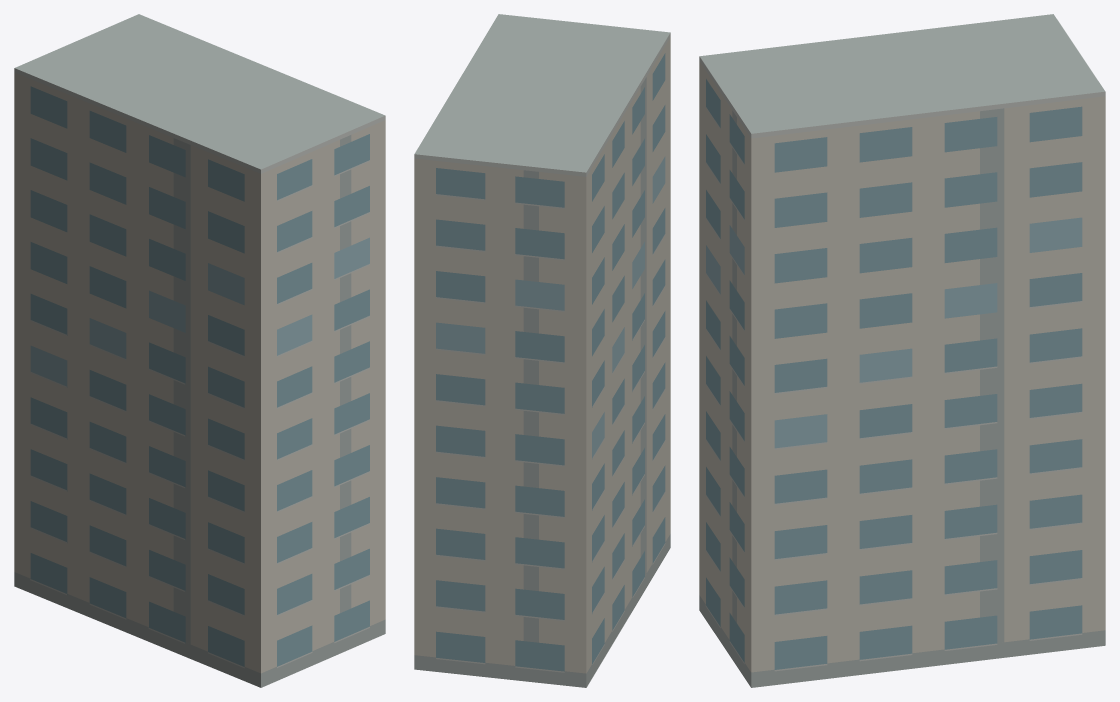
The model's file is residential-123c8f0a-6c0e-4a81-947e-6888a8e84dc2.glb.
The picture shows the model from 3 angles, left to right: view 1: azimuth 30°, elevation 25°; view 2: azimuth 150°, elevation 25°; view 3: azimuth 270°, elevation 25°; orthographic projection. The views are drawn at different scales.
Parts seen in each view (by area): view 1: residential-123c8f0a-6c0e-4a81-947e-6888a8e84dc2.tmp; view 2: residential-123c8f0a-6c0e-4a81-947e-6888a8e84dc2.tmp; view 3: residential-123c8f0a-6c0e-4a81-947e-6888a8e84dc2.tmp.
Boxes of the visible parts, x1=… form: residential-123c8f0a-6c0e-4a81-947e-6888a8e84dc2.tmp: x1=14, y1=14, x2=385, y2=687; residential-123c8f0a-6c0e-4a81-947e-6888a8e84dc2.tmp: x1=414, y1=14, x2=670, y2=687; residential-123c8f0a-6c0e-4a81-947e-6888a8e84dc2.tmp: x1=699, y1=14, x2=1105, y2=687.
Size of the model in its own units: 13.46 by 29 by 19.27.
